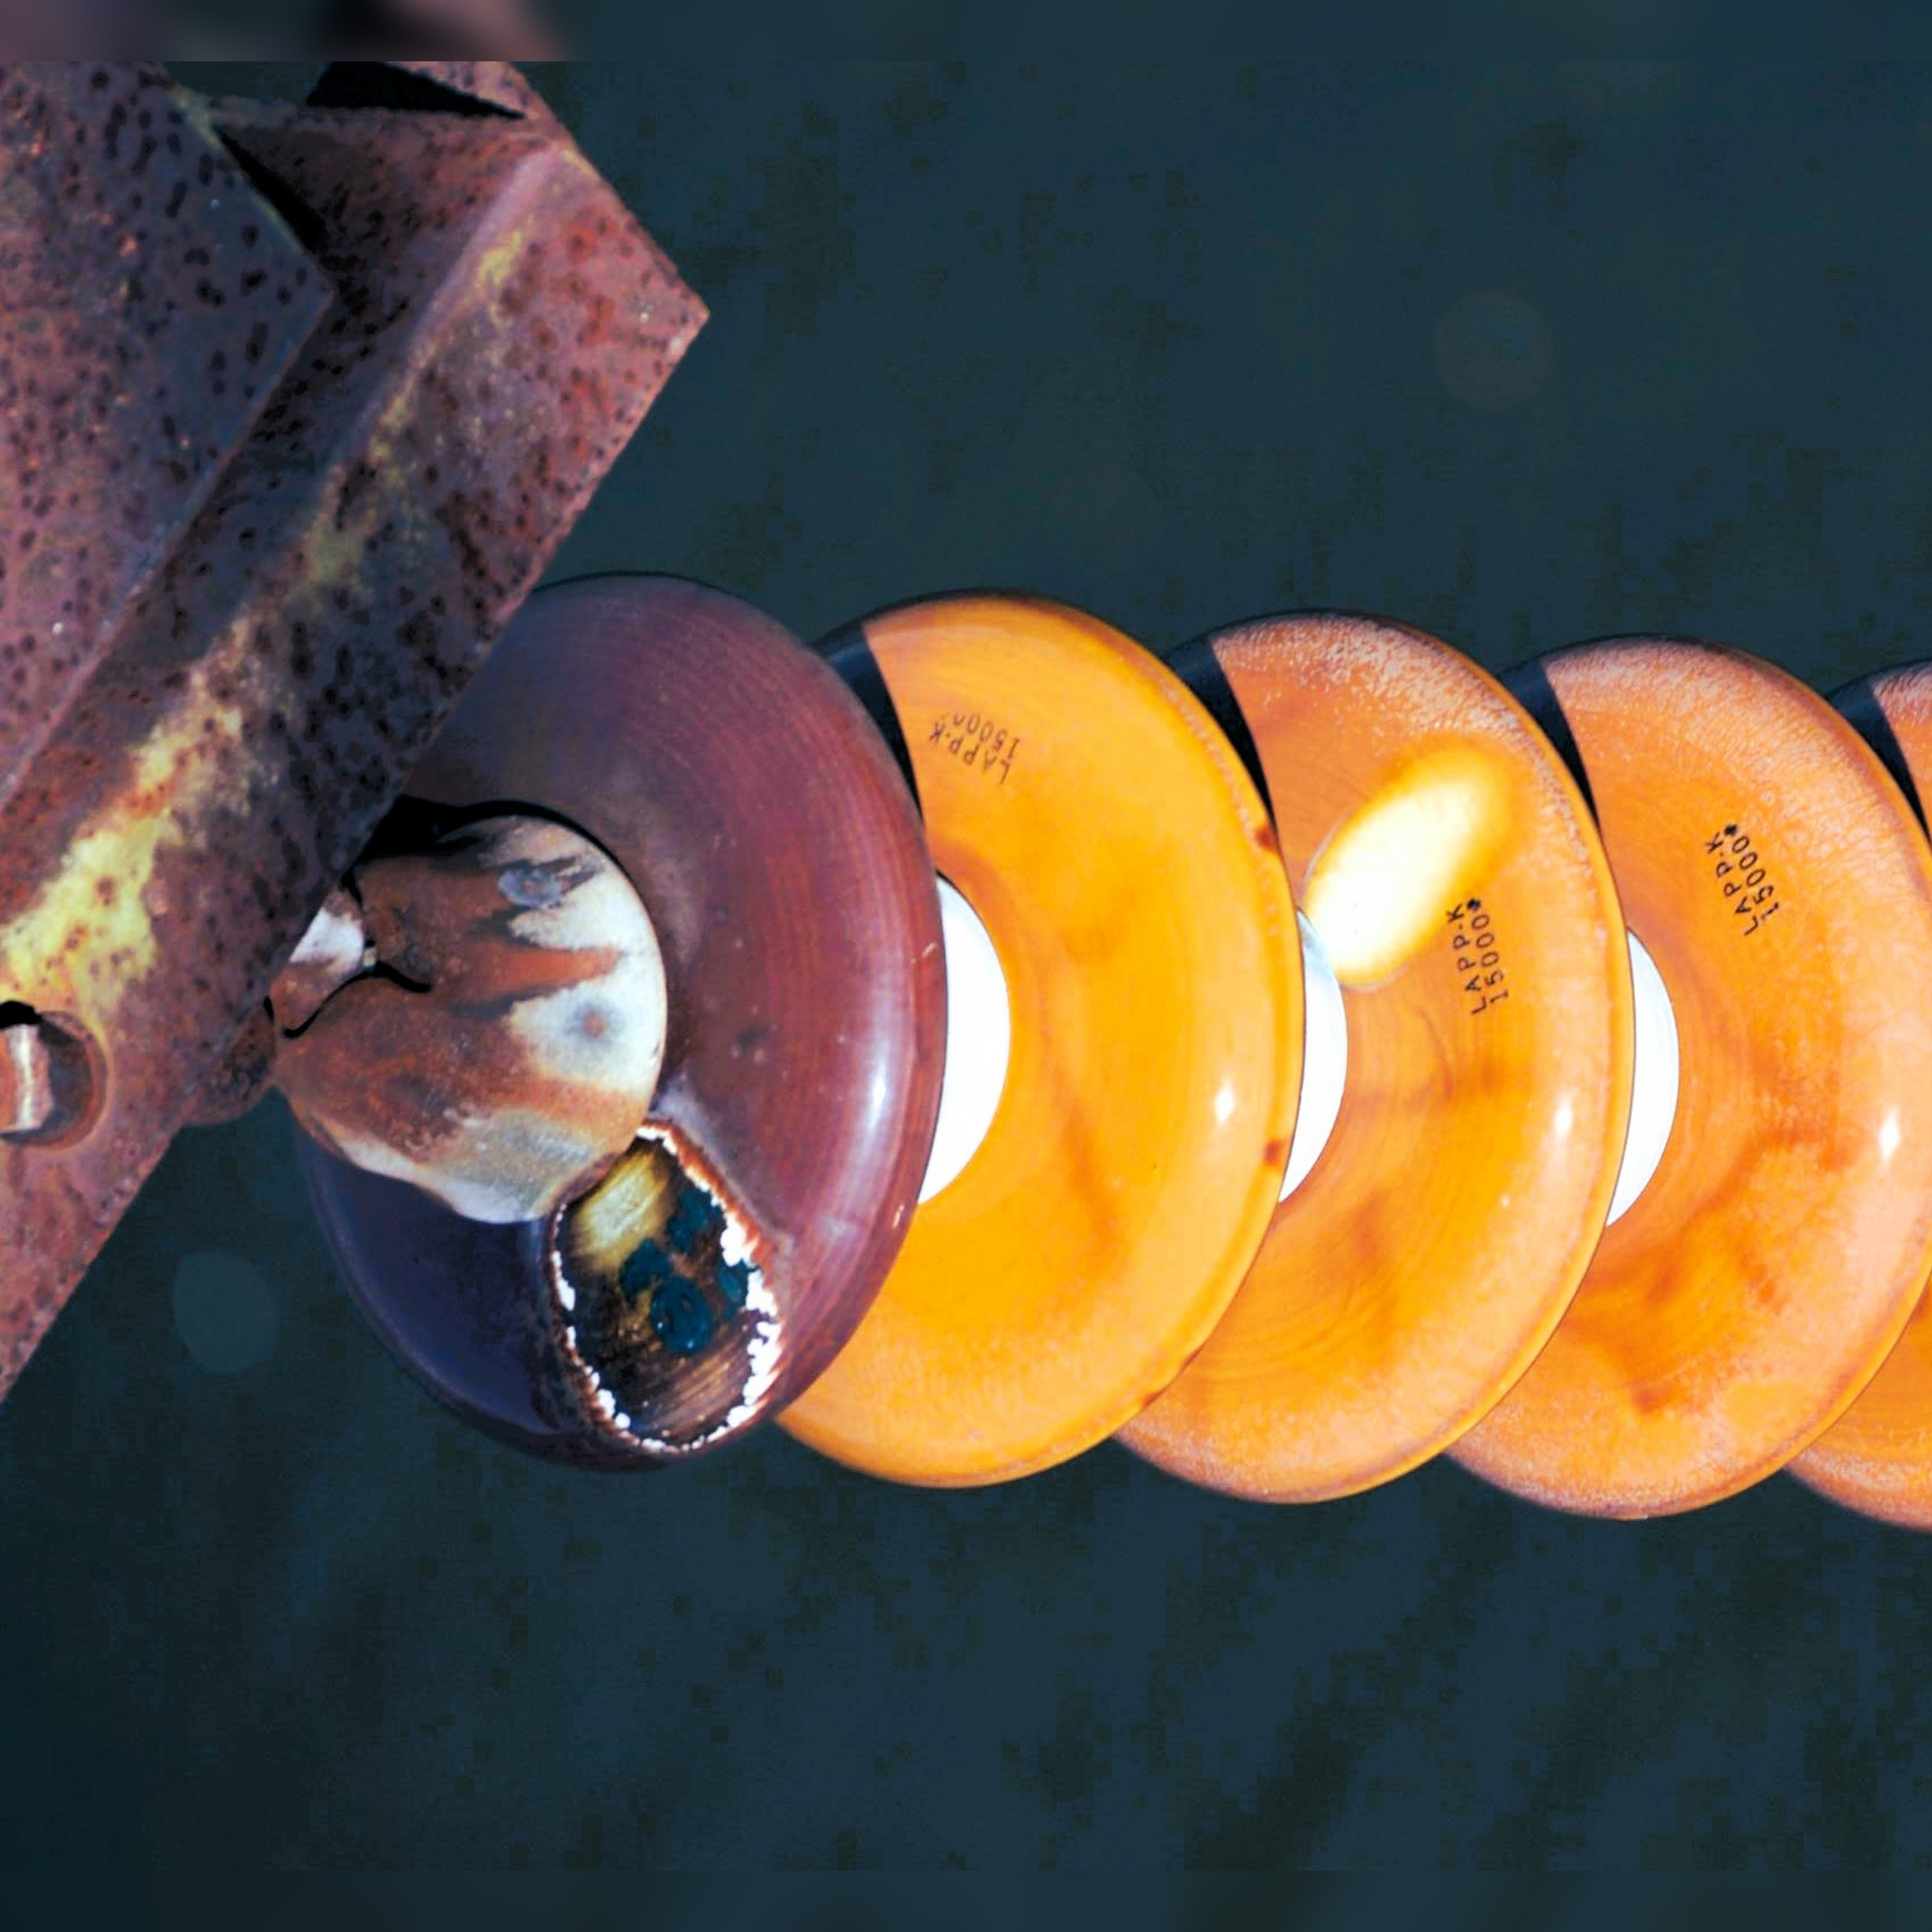Insulator flashover: (297, 579, 948, 1506), (1125, 582, 1651, 1530)
